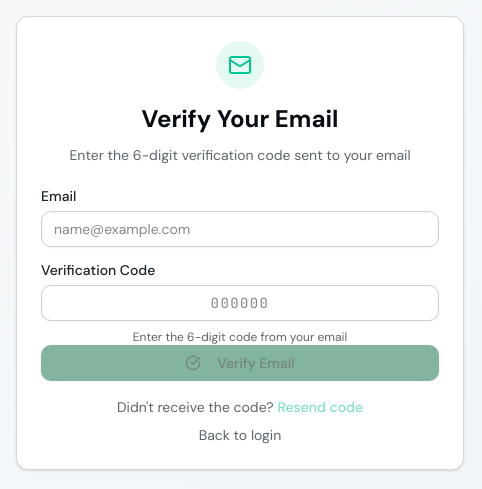
Scenario: VerifyEmail Page › Code Input Validation › only accepts numeric input in code field
Type "abc123def456" into the field labelled "Verification Code" at {"x": 240, "y": 303}, box [41,285,439,321]
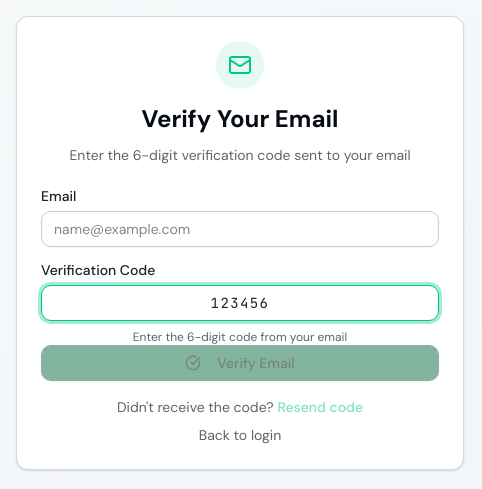
Result: the field labelled "Verification Code" holds "123456" at [41,285,439,321]
